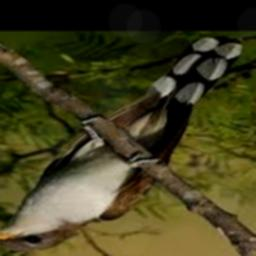Cuckoo: (0, 37, 243, 251)
